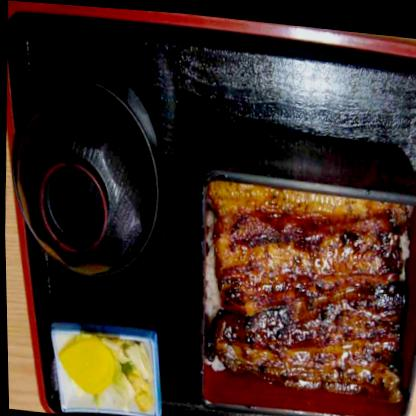eel: (204, 173, 403, 399)
